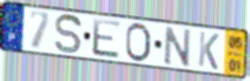7: (28, 10, 51, 51)
E: (91, 17, 123, 61)
K: (197, 30, 221, 72)
N: (164, 24, 193, 68)
O: (124, 21, 153, 64)
S: (54, 12, 83, 56)
